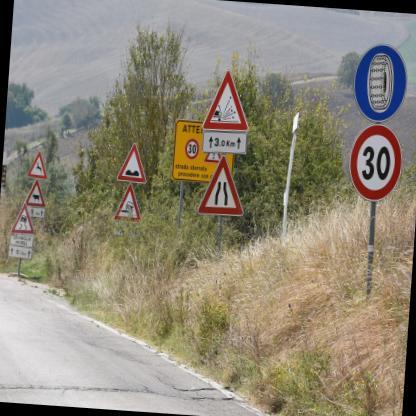obstructed_road_sign: (115, 185, 141, 220)
road_sign: (350, 124, 401, 201), (203, 71, 246, 132), (199, 157, 242, 214), (118, 144, 145, 183), (203, 131, 247, 153), (11, 204, 33, 233), (27, 152, 47, 179), (25, 180, 44, 206), (186, 138, 199, 159)
